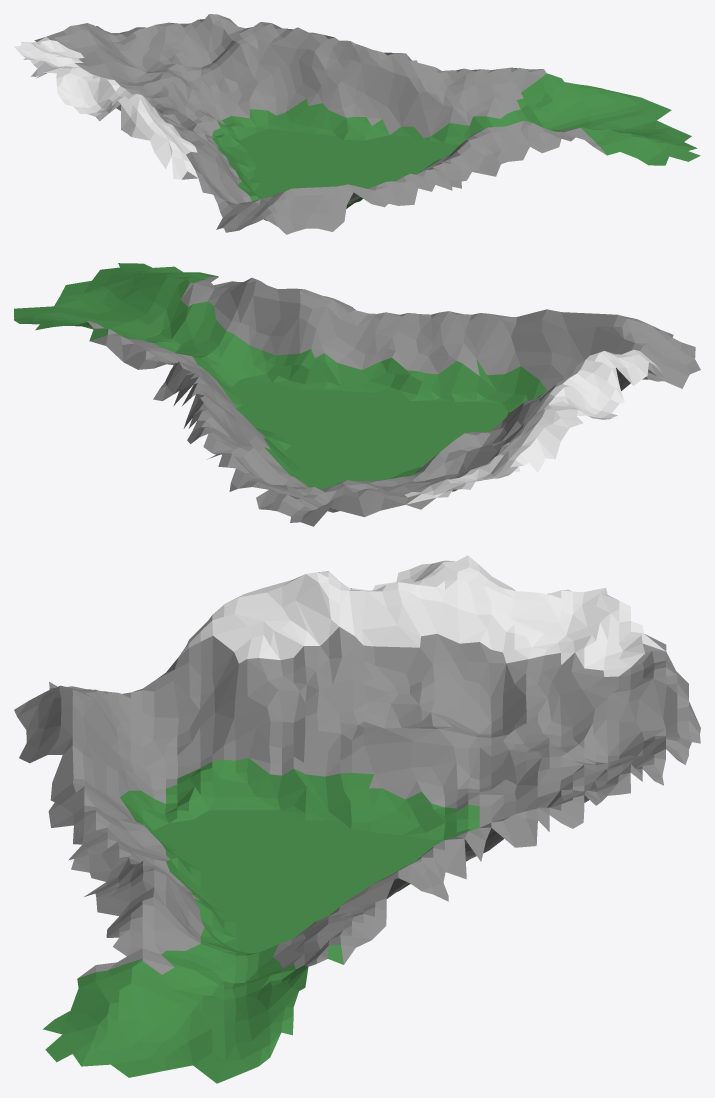
File: map.glb
3 renders of one model, top to bottom at view 1: azimuth 30°, elevation 25°; view 2: azimuth 150°, elevation 25°; view 3: azimuth 270°, elevation 25°, orthographic. The views are drawn at different scales.
Parts seen in each view (by area): view 1: Landscape.001; view 2: Landscape.001; view 3: Landscape.001.
Boxes of the visible parts, x1,y1,x2,y2 form: Landscape.001: (14, 14, 700, 234); Landscape.001: (14, 263, 700, 526); Landscape.001: (14, 555, 700, 1083).
Size of the model in its own units: 1.22 by 0.246 by 0.9304.
